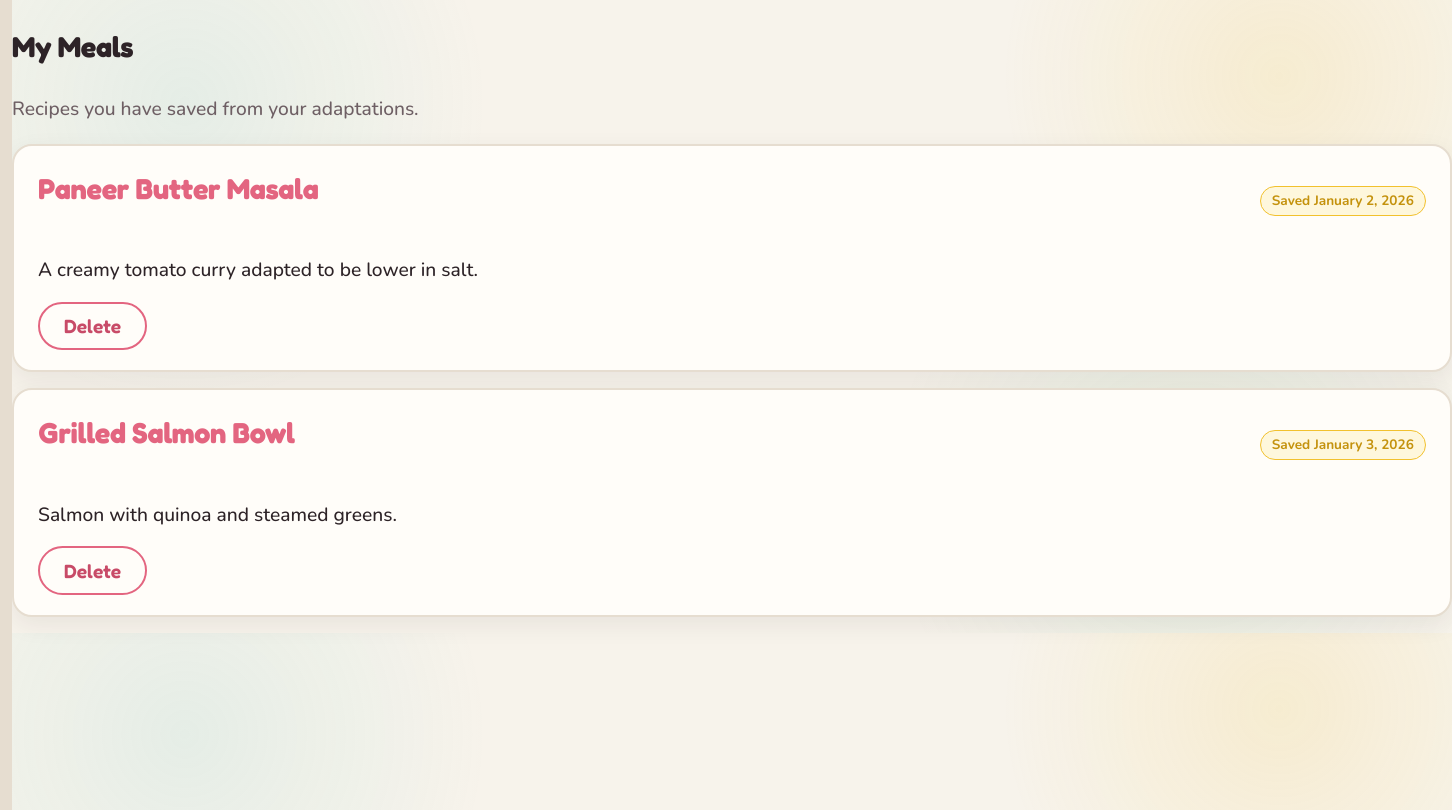
meals page › shows a delete failure when the backend reports a missing or unowned meal
The image size is (1452, 810).
Click the button "Delete" below "Paneer Butter Masala": (93, 326) top-left (38, 302), bottom-right (147, 350)
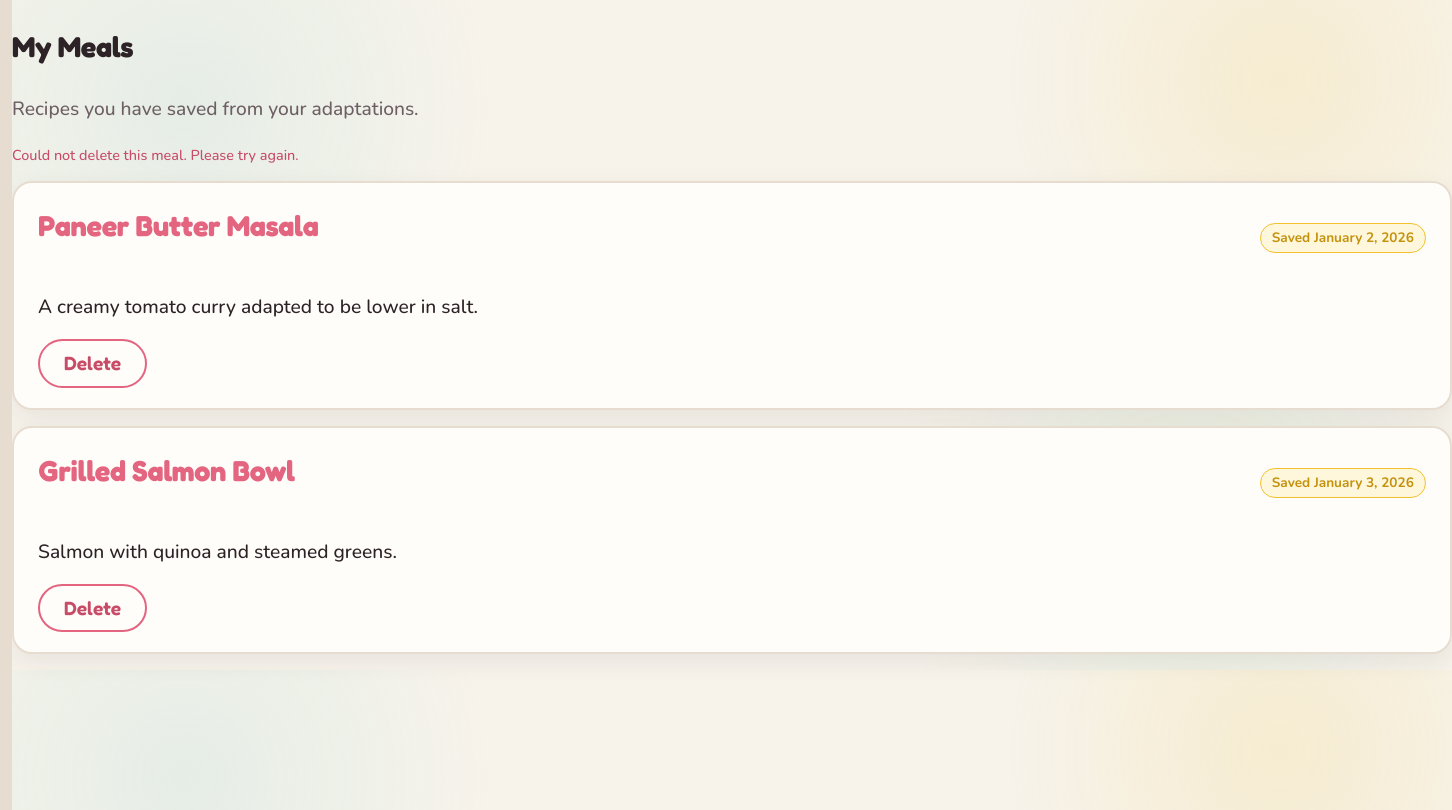
Check: the text "Could not delete this meal. Please try again." is shown, box top-left (12, 145), bottom-right (299, 165)
